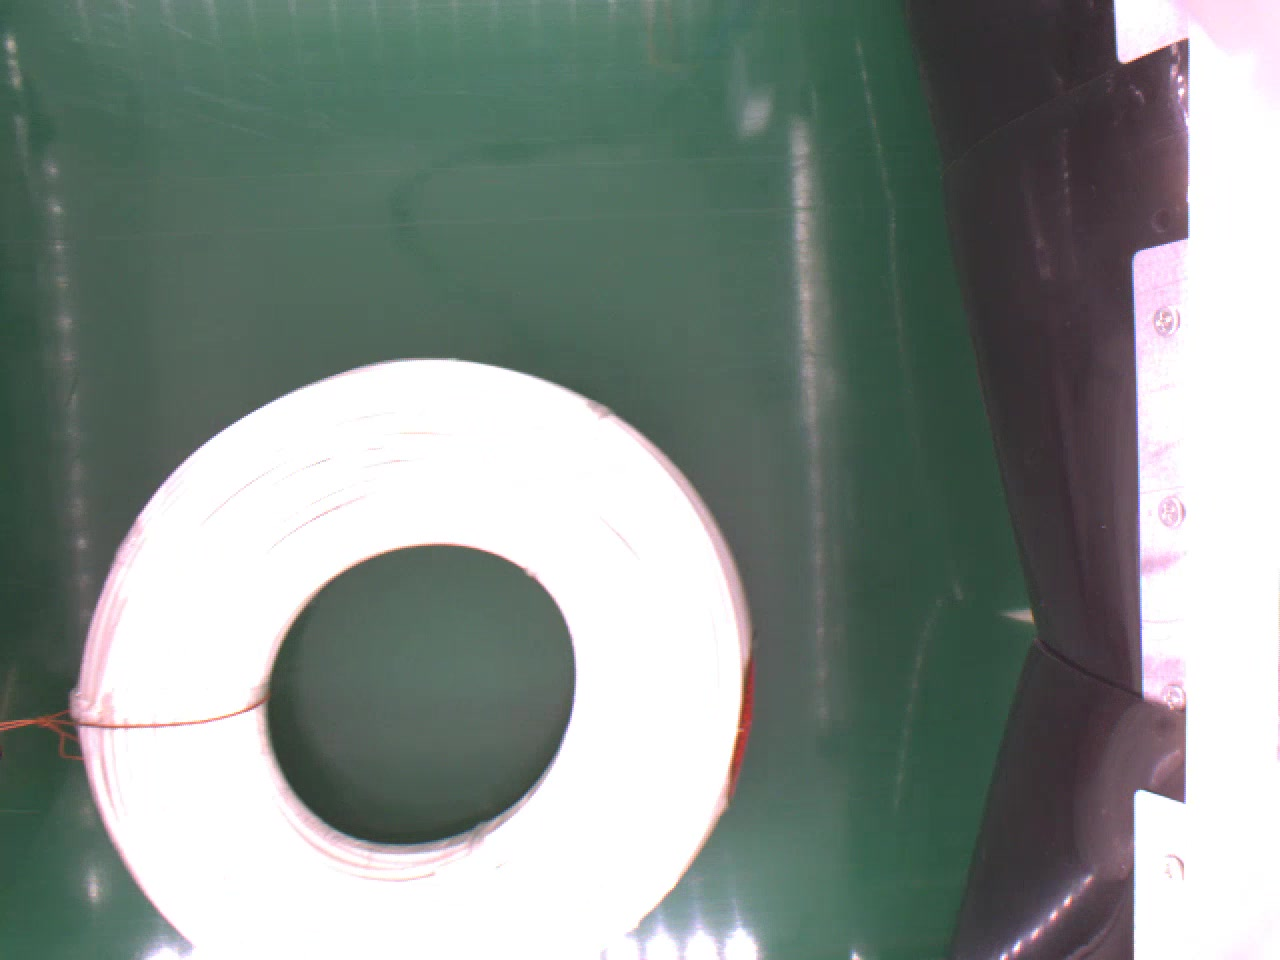white: (75, 358, 751, 960)
